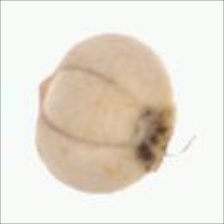L5: (37, 63, 142, 149), (136, 100, 179, 178)
L6: (32, 32, 177, 196)
